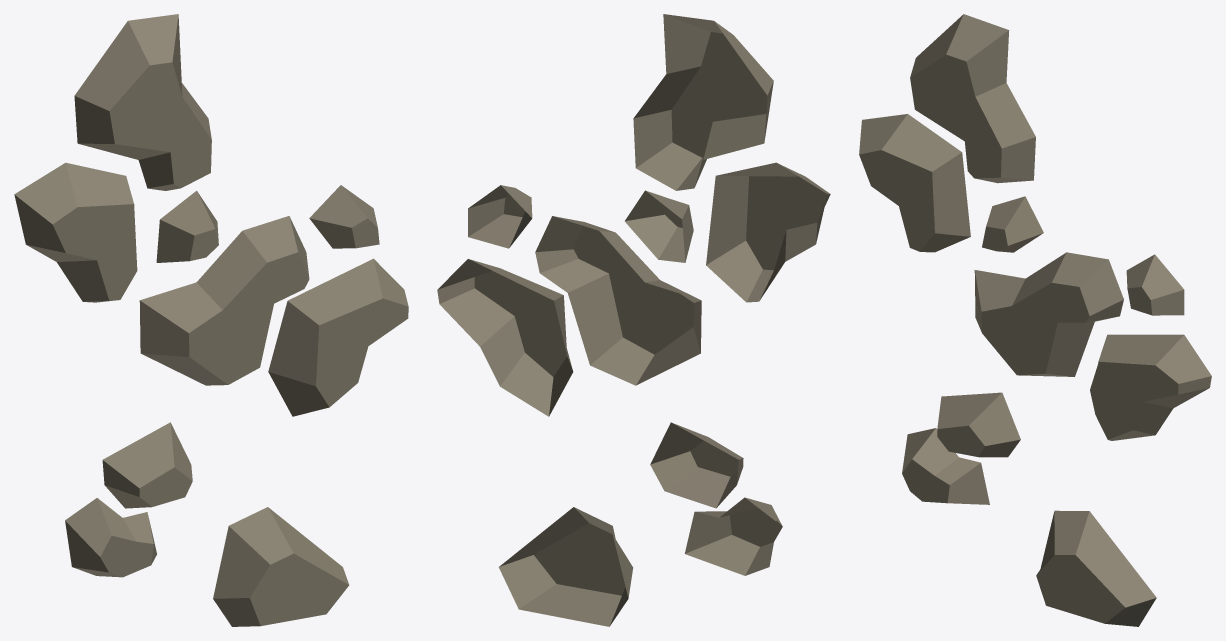
The model's file is Cailloux01.fbx.
3 renders of one model, left to right at view 1: azimuth 30°, elevation 25°; view 2: azimuth 150°, elevation 25°; view 3: azimuth 330°, elevation 25°, orthographic. The views are drawn at different scales.
Visible parts, largest first — view 1: Cailloux01; view 2: Cailloux01; view 3: Cailloux01.
Boxes of the visible parts, x1=… form: Cailloux01: x1=14, y1=14, x2=408, y2=626; Cailloux01: x1=437, y1=14, x2=830, y2=626; Cailloux01: x1=859, y1=14, x2=1211, y2=626.
Bounding box in the file's own units: 233 × 364 × 21.85.
